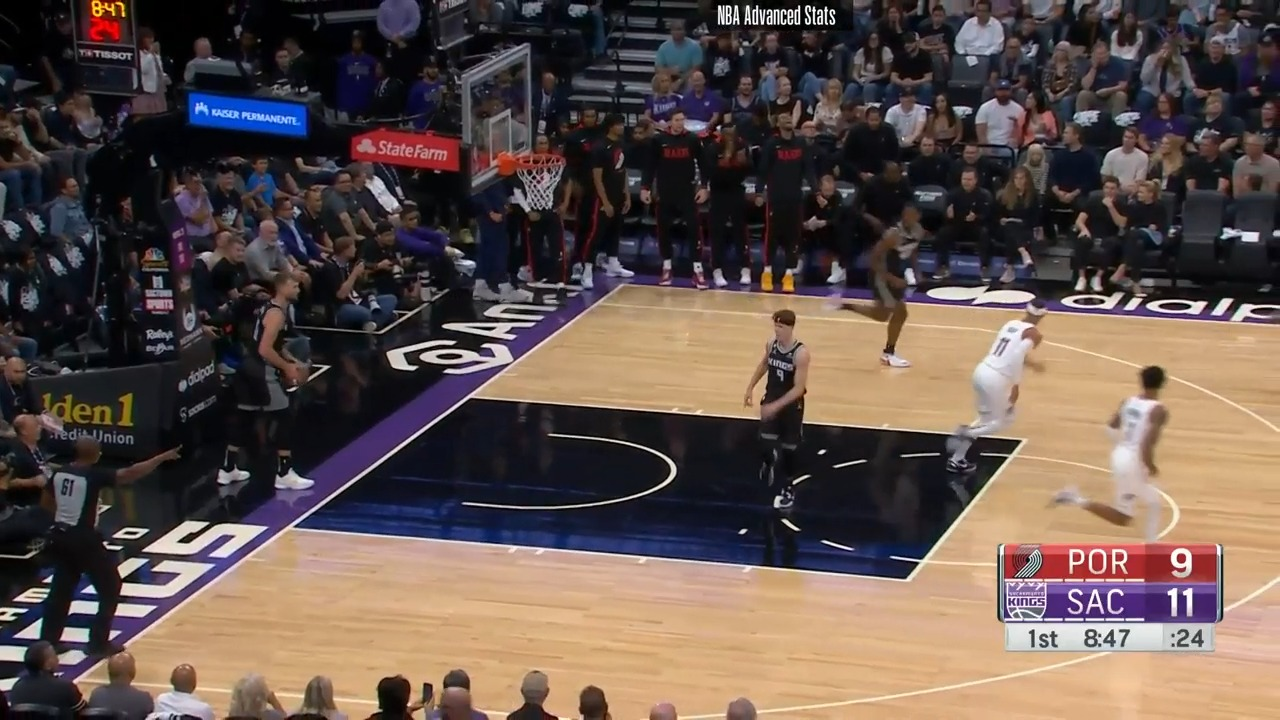net: (497, 142, 570, 210)
player: (1049, 364, 1188, 546), (215, 267, 314, 509), (945, 296, 1060, 496), (737, 304, 822, 518), (833, 204, 935, 375)
referee: (29, 427, 151, 663)
